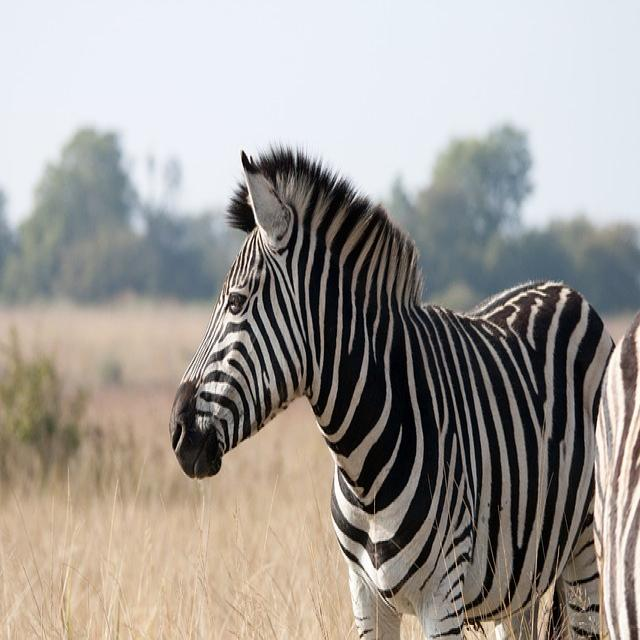Herbivorous: (169, 148, 640, 640)
